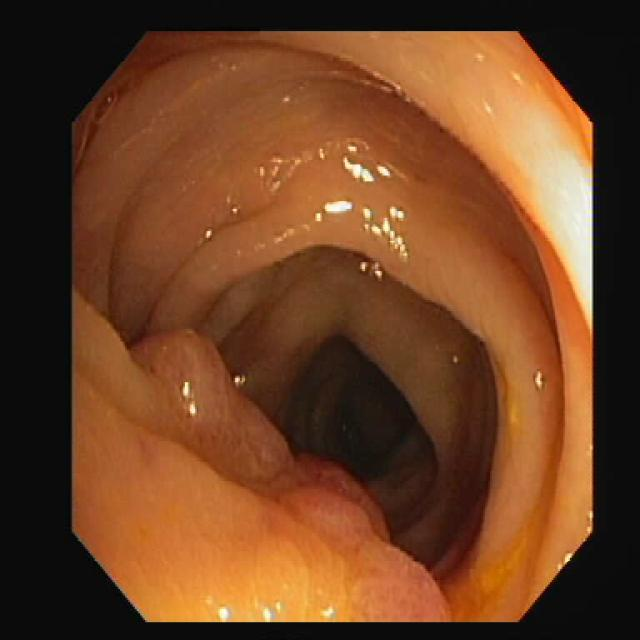tumor: (132, 329, 447, 616)
